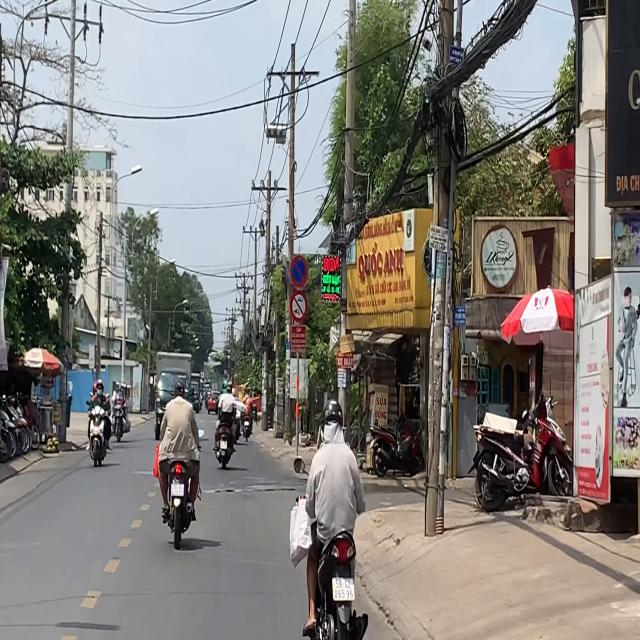Cam con lai: (290, 291, 308, 323)
Cam do: (290, 254, 308, 288)
